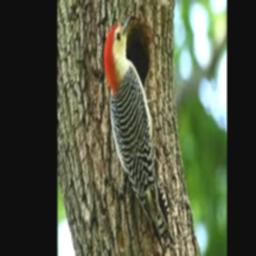Woodpecker: (104, 13, 176, 256)
